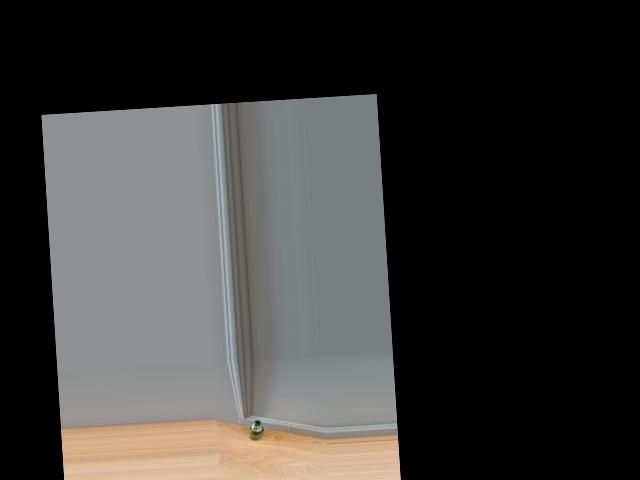beer: (248, 420, 264, 441)
